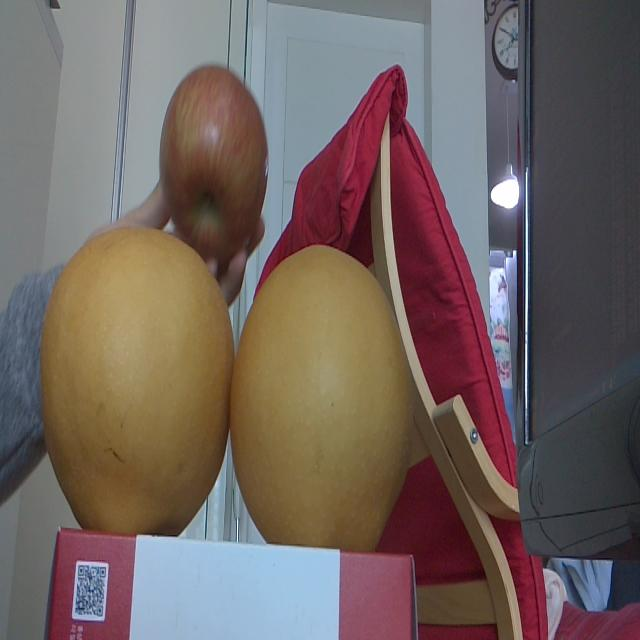apple: (160, 63, 269, 254)
pear: (42, 225, 234, 532), (231, 245, 413, 540)
